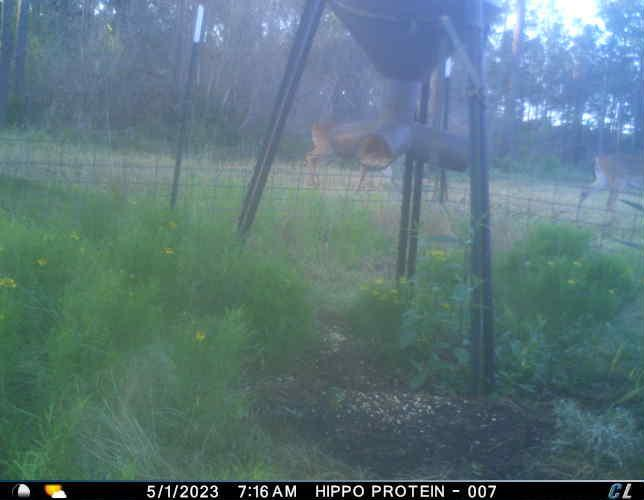Deer: (311, 115, 399, 194), (571, 147, 644, 235)
